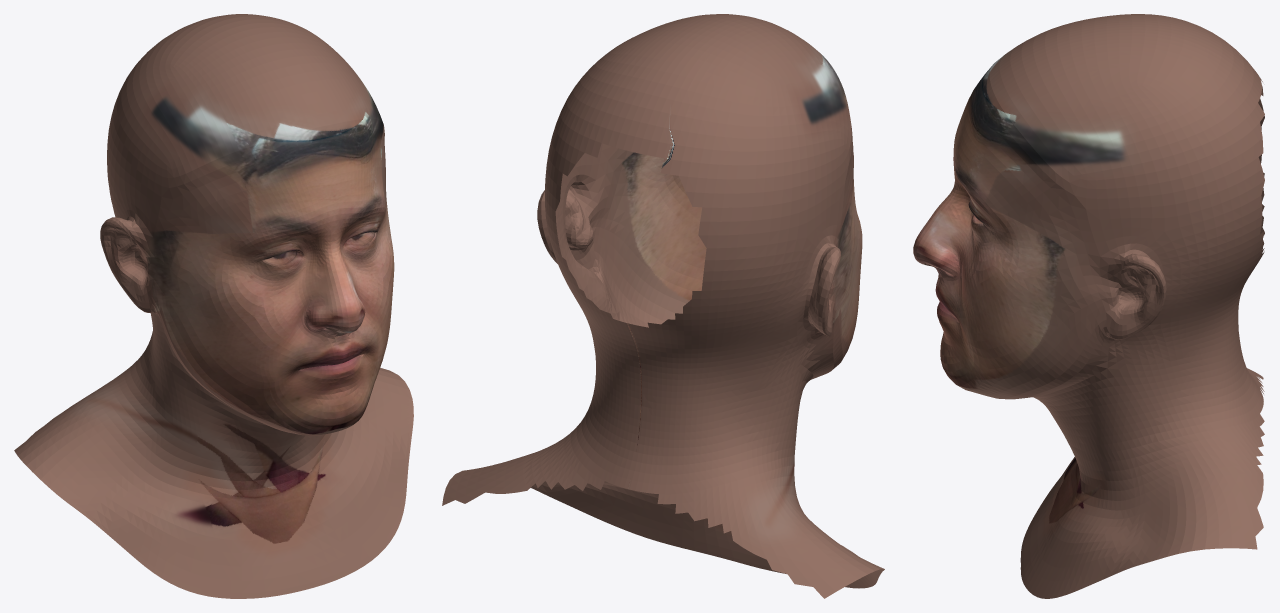
File: head.glb
The picture shows the model from 3 angles, left to right: view 1: azimuth 30°, elevation 25°; view 2: azimuth 150°, elevation 25°; view 3: azimuth 270°, elevation 25°; orthographic projection. The views are drawn at different scales.
Visible parts, largest first — view 1: geometry_0; view 2: geometry_0; view 3: geometry_0.
Boxes of the visible parts, bbox=[...] form: geometry_0: bbox=[14, 14, 413, 598]; geometry_0: bbox=[442, 14, 884, 598]; geometry_0: bbox=[913, 14, 1264, 598].
Bounding box in the file's own units: 0.2554 × 0.3415 × 0.2031.
1 material, 1 textured.
